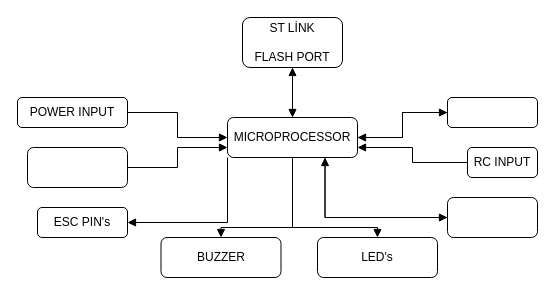
Image size: 555x295. Some labels were removed from this diagram. The box of each missing label's shape, as (x1, y1, x2, y2) in pixels:
IMU 10DoF: (26, 146, 128, 188)
TELEMETRY: (446, 196, 538, 238)
USB PORT: (446, 96, 538, 128)
